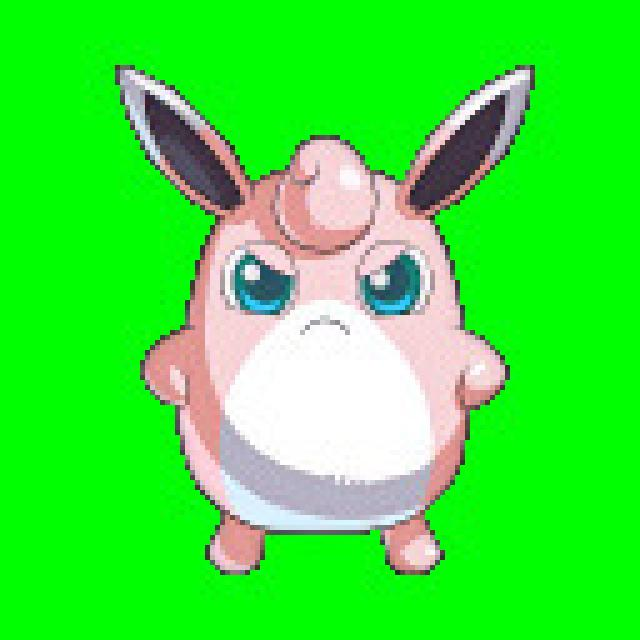Wigglytuff: (127, 97, 529, 600)
